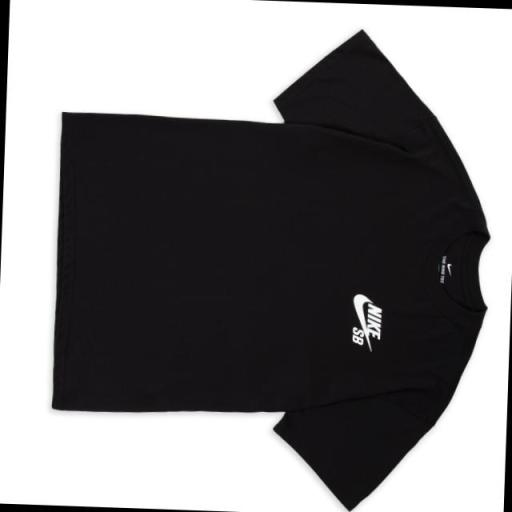Nike: (348, 294, 369, 343), (362, 303, 382, 340)
